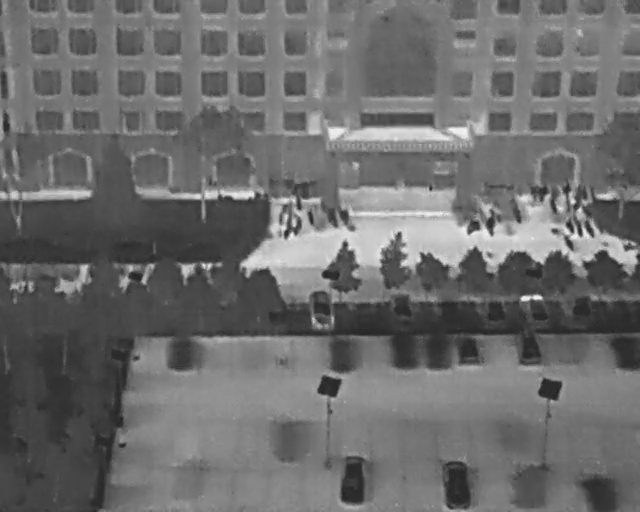Bicycle: (335, 206, 358, 235), (323, 205, 342, 231), (559, 231, 579, 254), (580, 216, 598, 241), (561, 215, 579, 237), (485, 208, 498, 237), (535, 183, 550, 206), (464, 217, 482, 236), (511, 203, 525, 225), (281, 218, 294, 241), (291, 191, 304, 213), (276, 203, 289, 225), (573, 218, 586, 240), (561, 177, 573, 200), (304, 209, 317, 228), (292, 214, 303, 235), (575, 185, 585, 207), (529, 182, 538, 203), (549, 198, 560, 215), (287, 201, 295, 219)
Car: (337, 452, 371, 508), (441, 457, 472, 511), (509, 324, 545, 369), (307, 287, 337, 332), (519, 291, 550, 325), (453, 334, 483, 368), (387, 290, 415, 325), (481, 294, 508, 327)
